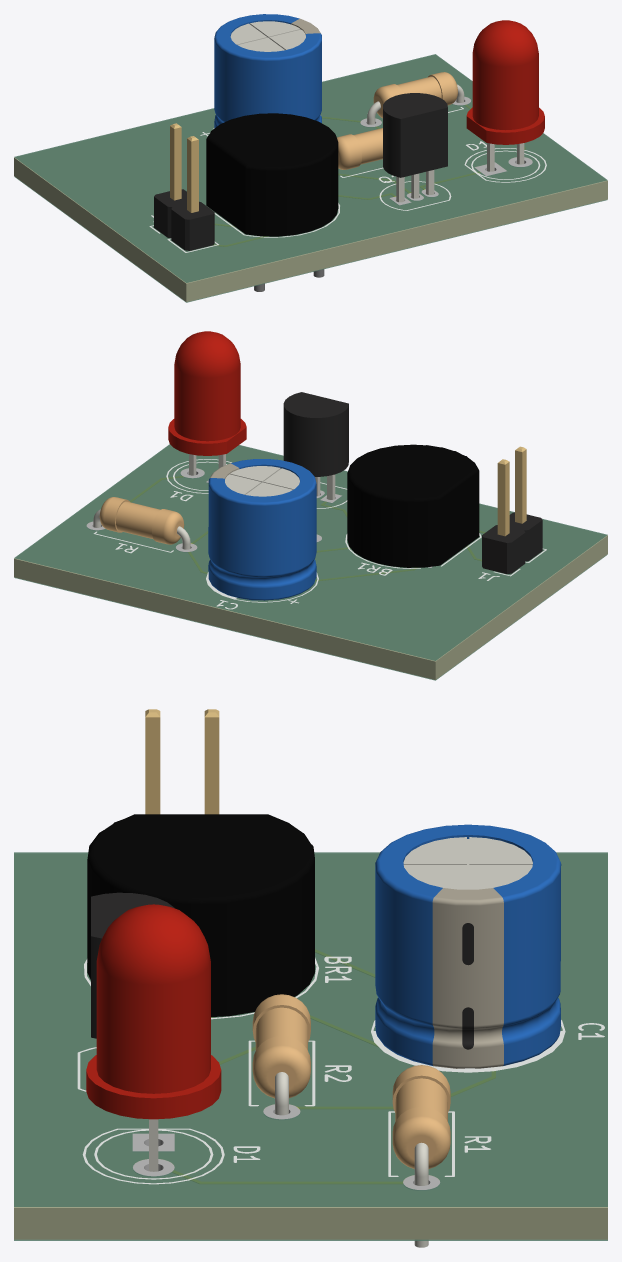
Rendered from MasAR_prototype_Circuit1.glb.
The picture shows the model from 3 angles, top to bottom: view 1: azimuth 30°, elevation 25°; view 2: azimuth 150°, elevation 25°; view 3: azimuth 270°, elevation 25°; orthographic projection. The views are drawn at different scales.
Parts seen in each view (by area): view 1: =>[0:1:1:19], =>[0:1:1:17], =>[0:1:1:7], =>[0:1:1:13], =>[0:1:1:9], =>[0:1:1:5], =>[0:1:1:11], =>[0:1:1:3] (×2), =>[0:1:1:16], =>[0:1:1:15], =>[0:1:1:18]; view 2: =>[0:1:1:19], =>[0:1:1:17], =>[0:1:1:7], =>[0:1:1:13], =>[0:1:1:9], =>[0:1:1:5], =>[0:1:1:11], =>[0:1:1:3], =>[0:1:1:16], =>[0:1:1:18], =>[0:1:1:15]; view 3: =>[0:1:1:19], =>[0:1:1:17], =>[0:1:1:13], =>[0:1:1:7], =>[0:1:1:9], =>[0:1:1:3] (×2), =>[0:1:1:16], =>[0:1:1:11], =>[0:1:1:5], =>[0:1:1:15], =>[0:1:1:14], =>[0:1:1:18].
Boxes of the visible parts, <box> form: =>[0:1:1:19]: <box>14,55,607,301</box>; =>[0:1:1:17]: <box>14,54,607,282</box>; =>[0:1:1:7]: <box>206,113,338,291</box>; =>[0:1:1:13]: <box>214,14,321,128</box>; =>[0:1:1:9]: <box>466,20,544,171</box>; =>[0:1:1:5]: <box>383,93,447,202</box>; =>[0:1:1:11]: <box>154,123,214,250</box>; =>[0:1:1:3] (×2): <box>337,72,464,169</box>; =>[0:1:1:16]: <box>149,107,546,252</box>; =>[0:1:1:15]: <box>360,96,532,205</box>; =>[0:1:1:18]: <box>14,176,607,302</box>; =>[0:1:1:19]: <box>14,445,607,679</box>; =>[0:1:1:17]: <box>14,444,607,660</box>; =>[0:1:1:7]: <box>347,444,479,567</box>; =>[0:1:1:13]: <box>208,459,316,600</box>; =>[0:1:1:9]: <box>168,331,246,475</box>; =>[0:1:1:5]: <box>283,392,348,499</box>; =>[0:1:1:11]: <box>482,446,542,573</box>; =>[0:1:1:3]: <box>93,497,190,549</box>; =>[0:1:1:16]: <box>93,459,546,609</box>; =>[0:1:1:18]: <box>14,554,607,680</box>; =>[0:1:1:15]: <box>86,468,432,567</box>; =>[0:1:1:19]: <box>14,854,607,1239</box>; =>[0:1:1:17]: <box>14,852,607,1206</box>; =>[0:1:1:13]: <box>375,824,561,1068</box>; =>[0:1:1:7]: <box>87,814,314,1016</box>; =>[0:1:1:9]: <box>86,904,221,1171</box>; =>[0:1:1:3] (×2): <box>252,994,450,1247</box>; =>[0:1:1:16]: <box>77,956,604,1184</box>; =>[0:1:1:11]: <box>145,709,219,814</box>; =>[0:1:1:5]: <box>91,892,174,1038</box>; =>[0:1:1:15]: <box>132,1104,440,1190</box>; =>[0:1:1:14]: <box>172,950,495,1183</box>; =>[0:1:1:18]: <box>14,1239,607,1240</box>.
Bounding box in the file's own units: 0.036 × 0.0166 × 0.0255.
